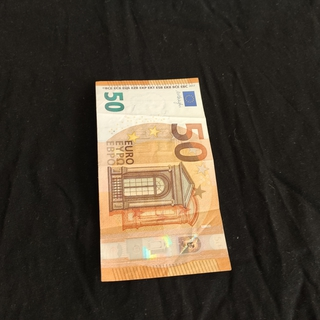50EUROFront: (94, 77, 233, 283)
